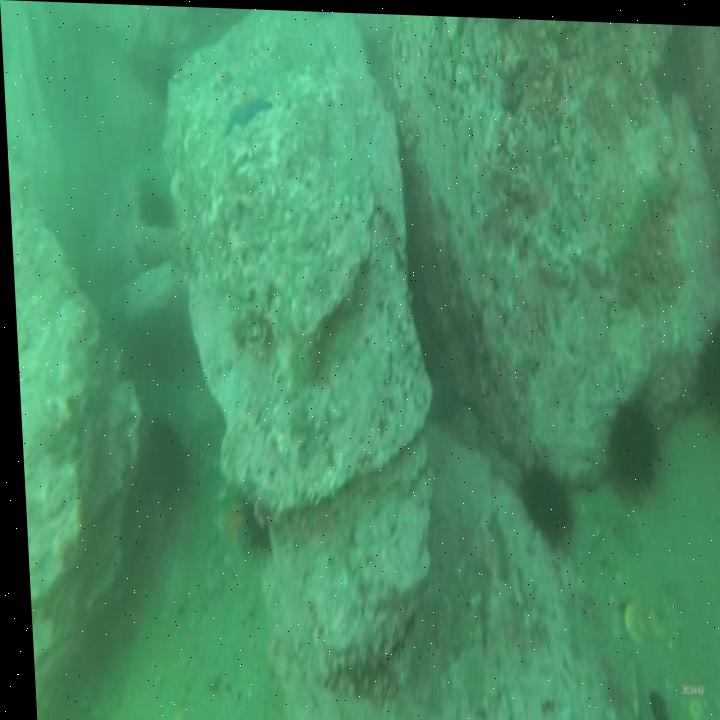echinus: (607, 399, 657, 491), (515, 459, 570, 537), (142, 423, 186, 492), (132, 183, 168, 230)
starfish: (224, 90, 274, 127), (210, 509, 240, 561)
